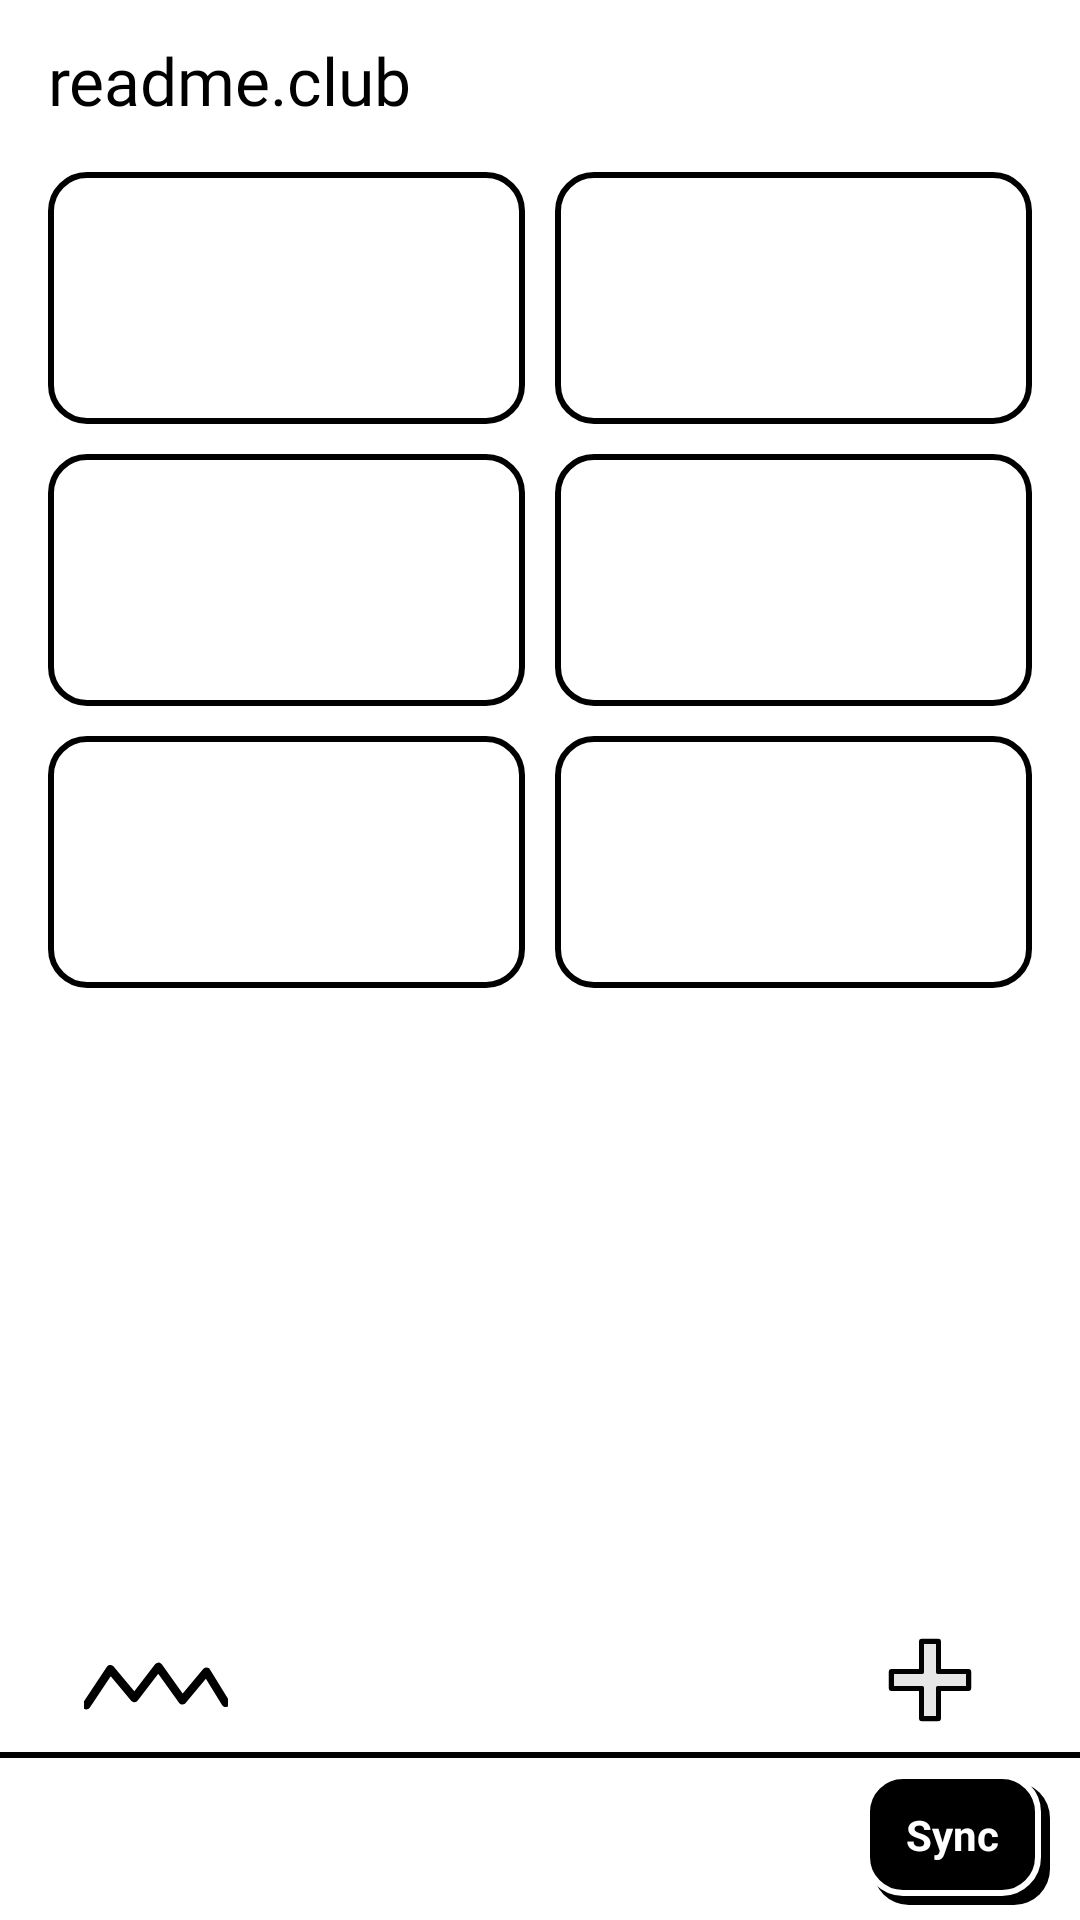

Screen size 1080 x 1920. Icon name, then its box in pixels as box(x1, y1, x2, y2):
deco plus: box(888, 1638, 972, 1722)
deco zigzag: box(84, 1662, 228, 1710)
